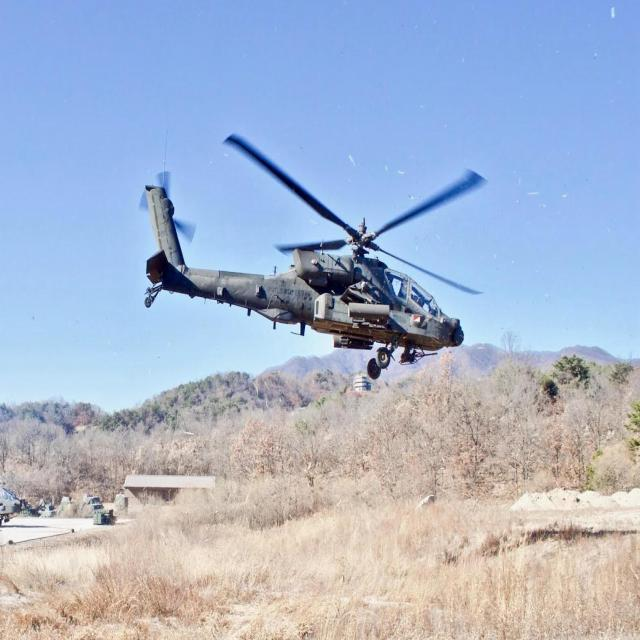MIL_HELO: (118, 130, 492, 390)
